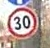limite 30: (5, 6, 38, 39)
